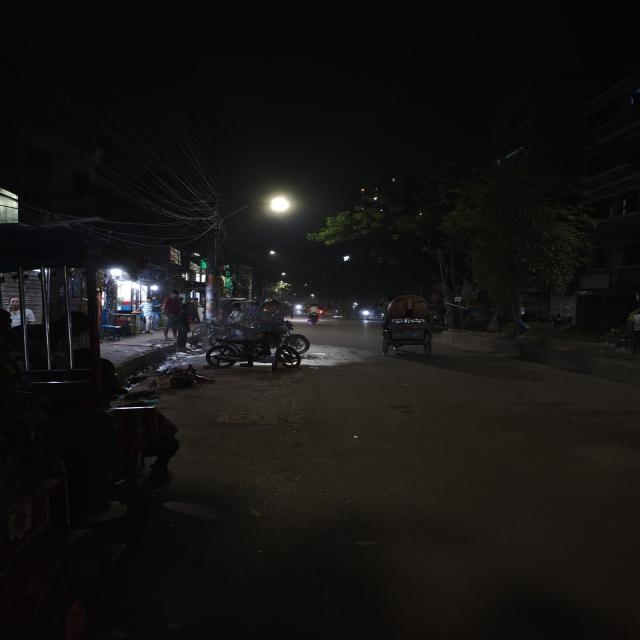motorcycle: (200, 324, 310, 372)
pedestrian: (160, 291, 184, 339), (141, 294, 163, 332)
rickshaw: (375, 292, 443, 358)
